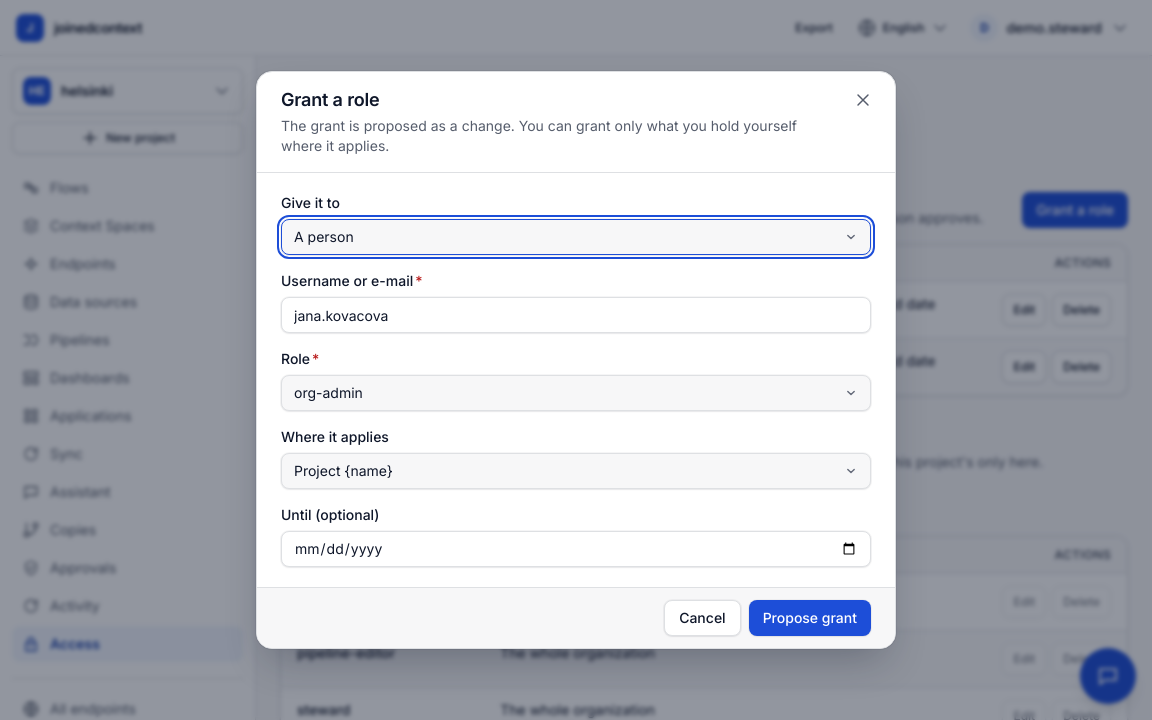
it: people and roles › opens the grant the assistant drafted, filled in, and shows a refusal in the API's words
Check: the field labelled "Username or e-mail*" holds "jana.kovacova", box top-left (281, 297), bottom-right (871, 333)
Check: the dropdown labelled "Role*" shows "org-admin", box top-left (281, 375), bottom-right (871, 411)
Step 1. Click the button "Propose grant" → (810, 618), box top-left (749, 600), bottom-right (871, 636)
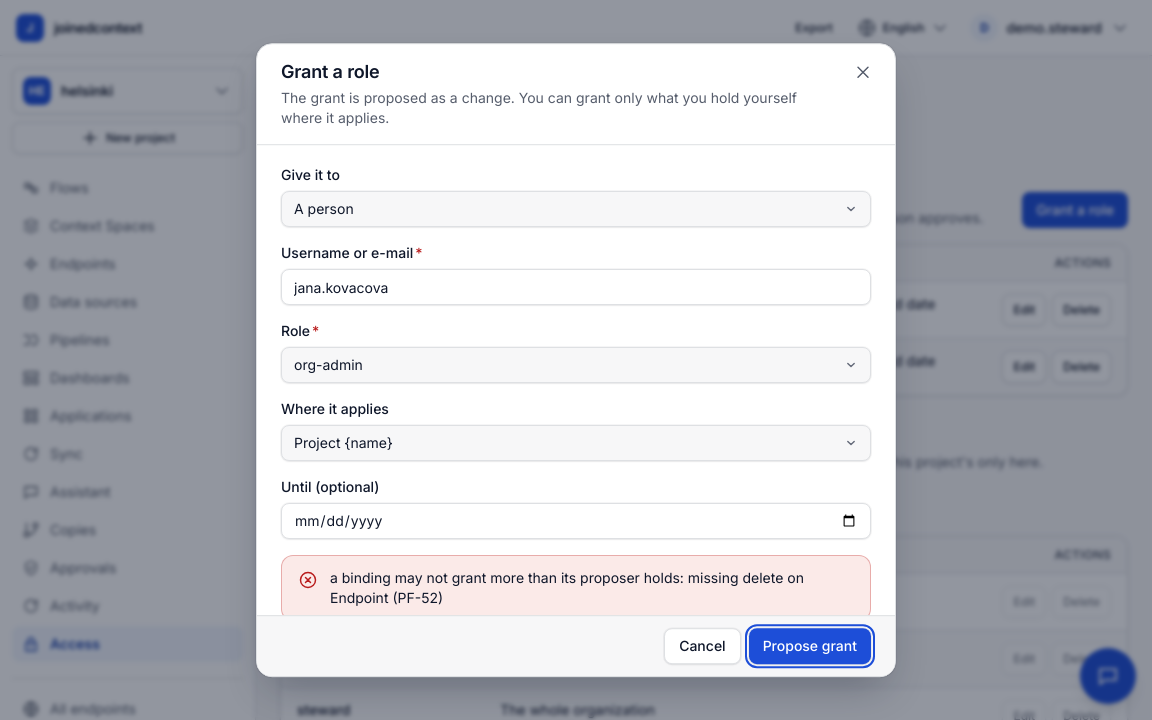
Check: the message shows "a binding may not grant more than its proposer holds: missing delete on Endpoint (PF-52)", box top-left (330, 569), bottom-right (804, 606)
